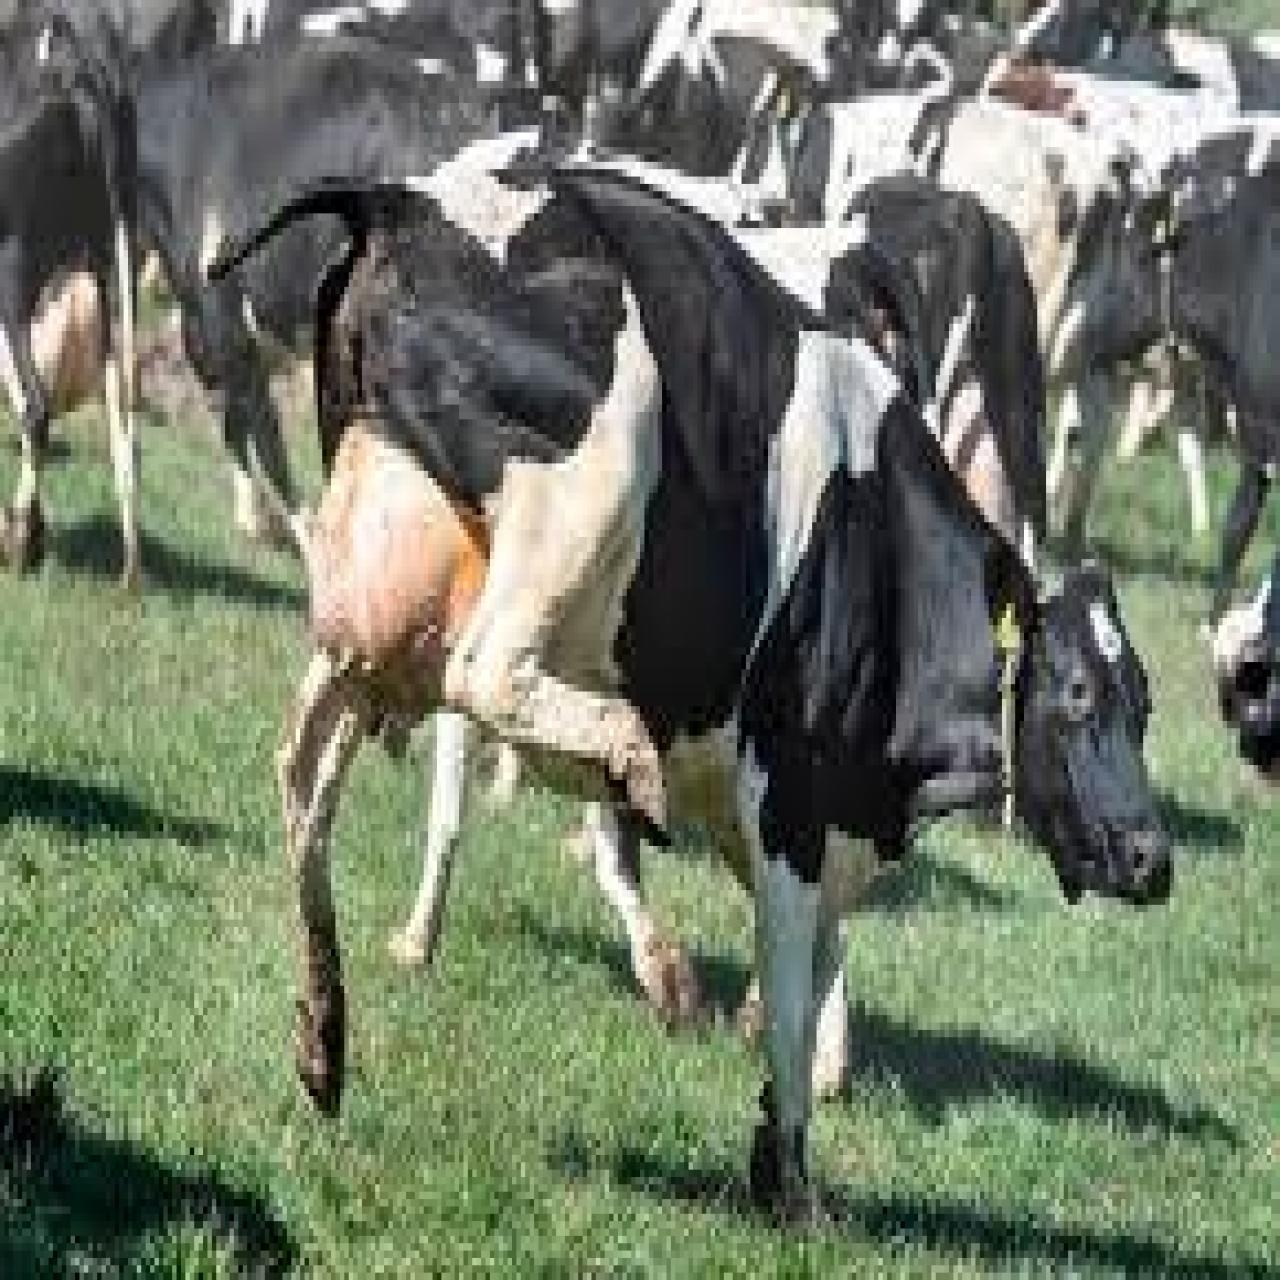cow: (275, 169, 1176, 1242), (0, 0, 145, 618)
